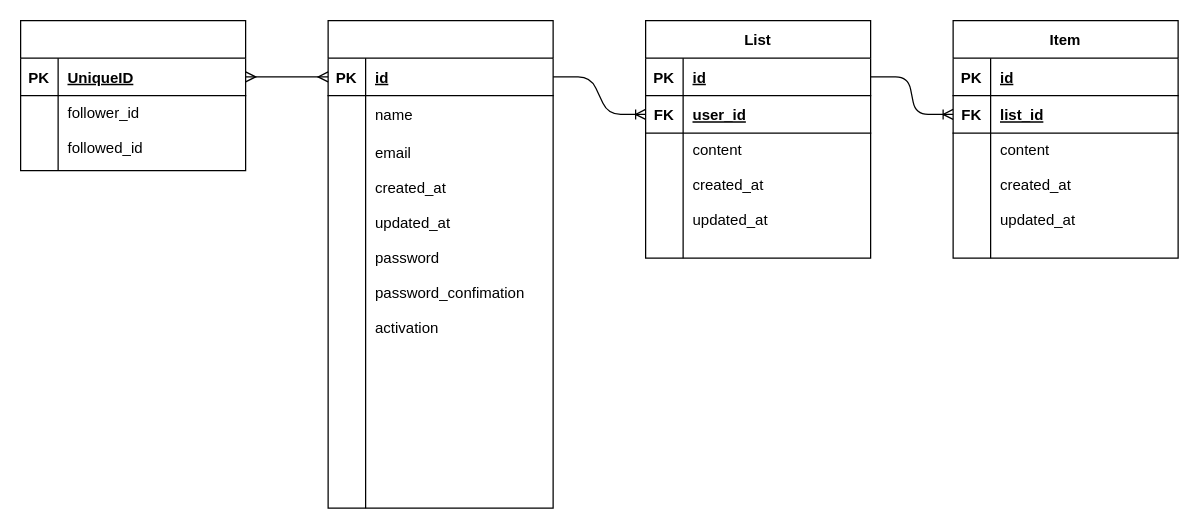
Image size: 1199x529. Some labels were removed from this diagram. The box of each missing label's shape, as (x1, y1, x2, y2) in pixels:
Relationships: (19, 19, 246, 171)
User: (327, 19, 553, 508)
